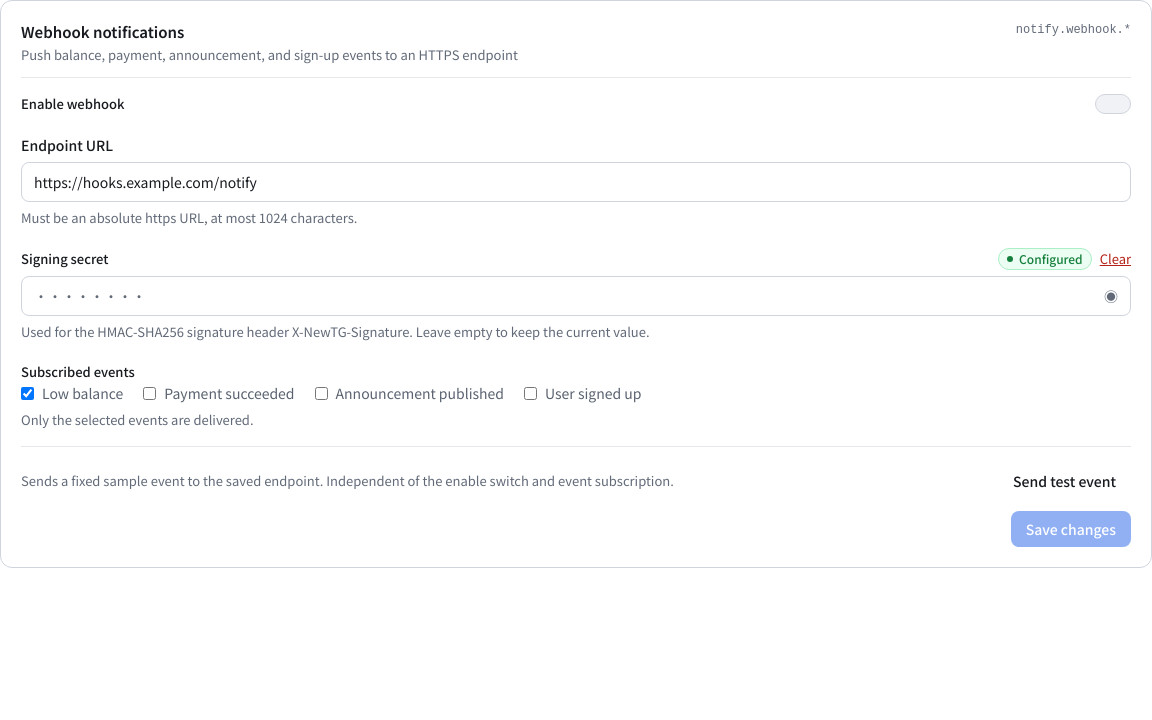
Test case: Webhook settings section › shows server field errors from a 422 on the matching field
Replace the text in the field labelled "Endpoint URL" with "https://hooks.example.com/v2" at coordinates (576, 182), box 21,162 -> 1131,202
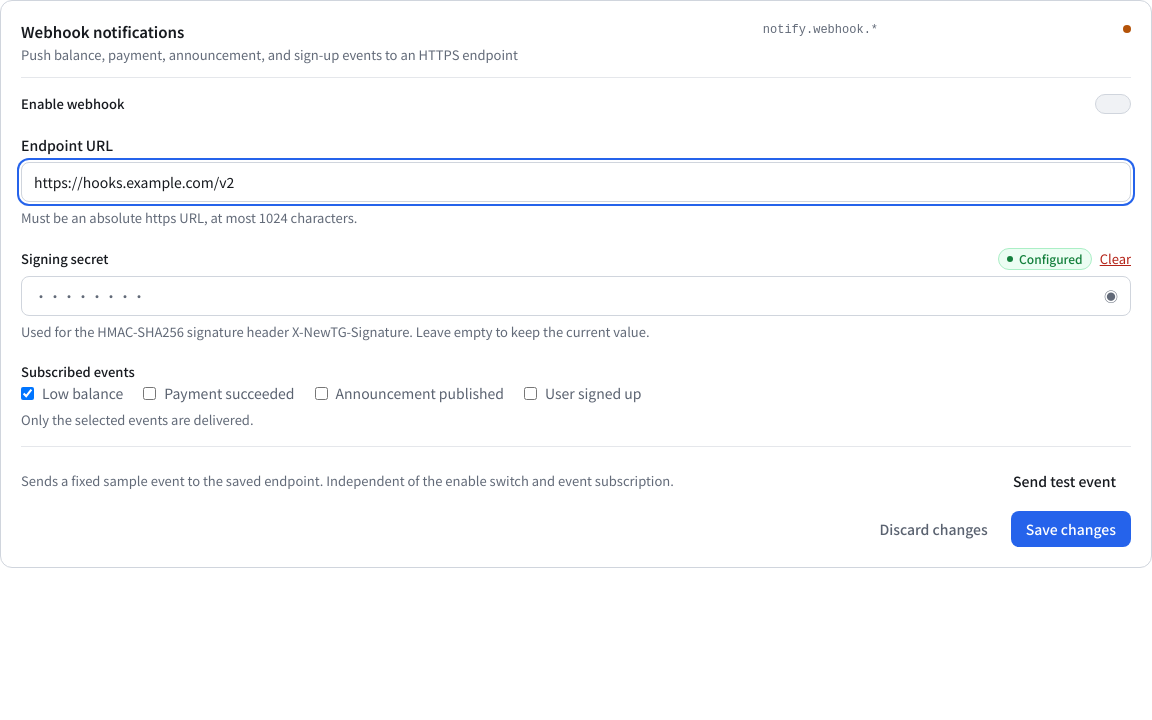
Click the button "Save changes" at coordinates (1071, 529), box 1011,511 -> 1131,547
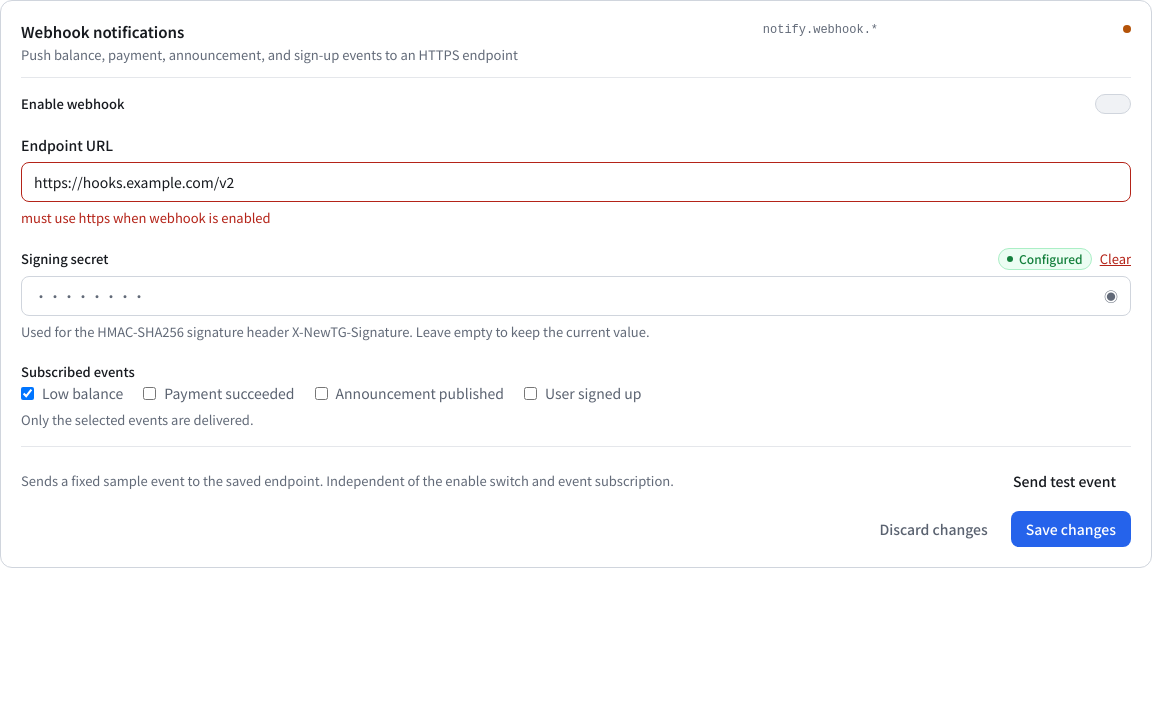
Now the text "must use https when webhook is enabled" is shown, box 21,208 -> 271,227
